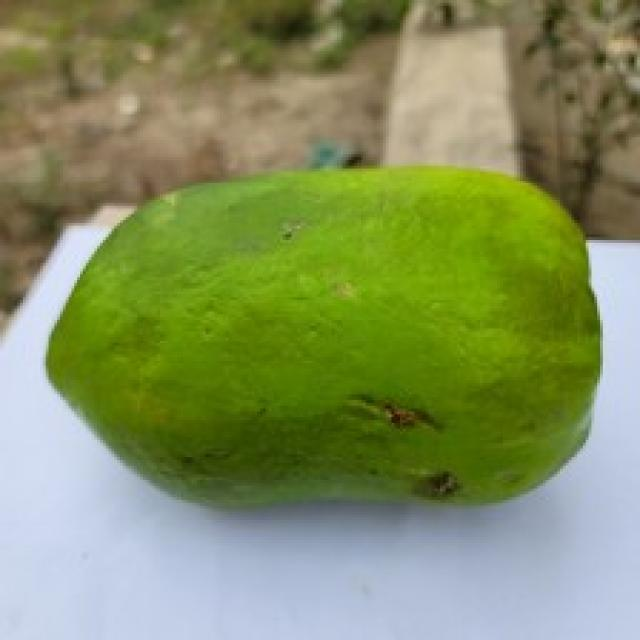Pepaya unrippen: (57, 148, 612, 531)
